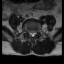CCS_stenosis: (31, 30, 33, 38)
LFS_normal: (35, 30, 38, 35)
LLS_normal: (33, 30, 35, 37)
RFS_stenosis: (27, 29, 29, 34)
RLS_normal: (29, 30, 31, 37)
